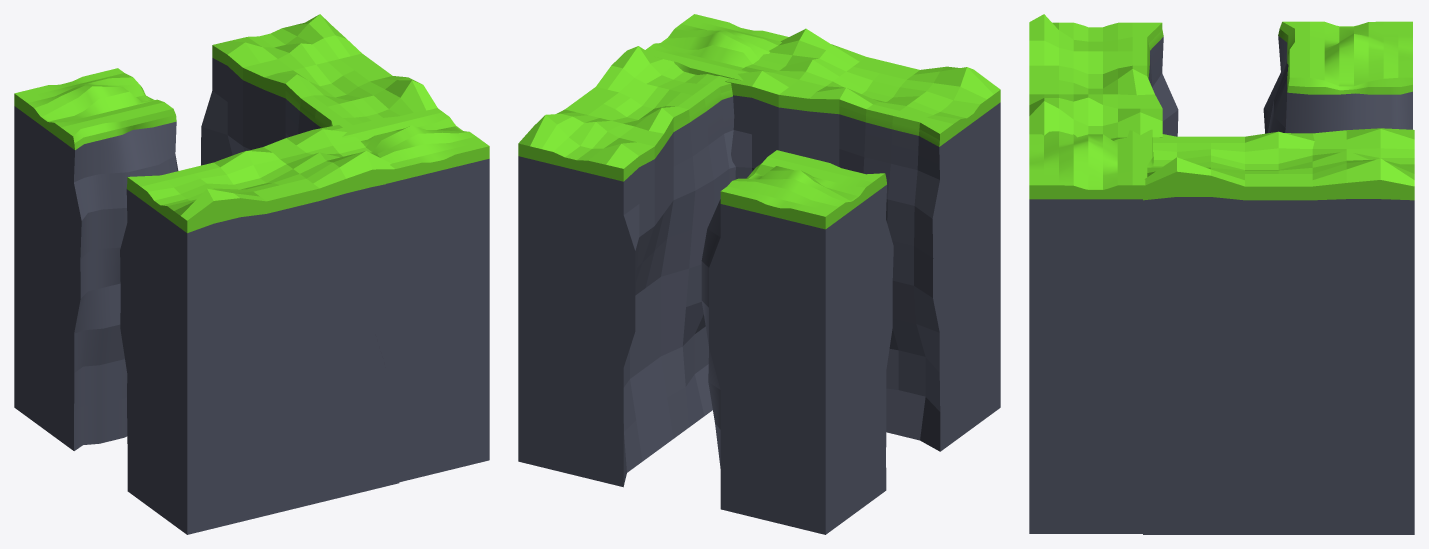
Rendered from CornerBlockSet.dae.
3 views of the same model, side by side, from view 1: azimuth 30°, elevation 25°; view 2: azimuth 150°, elevation 25°; view 3: azimuth 270°, elevation 25° (orthographic). The views are drawn at different scales.
Visible parts, largest first — view 1: CornerBlockSet; view 2: CornerBlockSet; view 3: CornerBlockSet.
Boxes of the visible parts, x1,y1,x2,y2 form: CornerBlockSet: [14, 14, 489, 534]; CornerBlockSet: [518, 14, 1000, 534]; CornerBlockSet: [1029, 14, 1414, 534].
Bounding box in the file's own units: 157 × 166 × 156.
